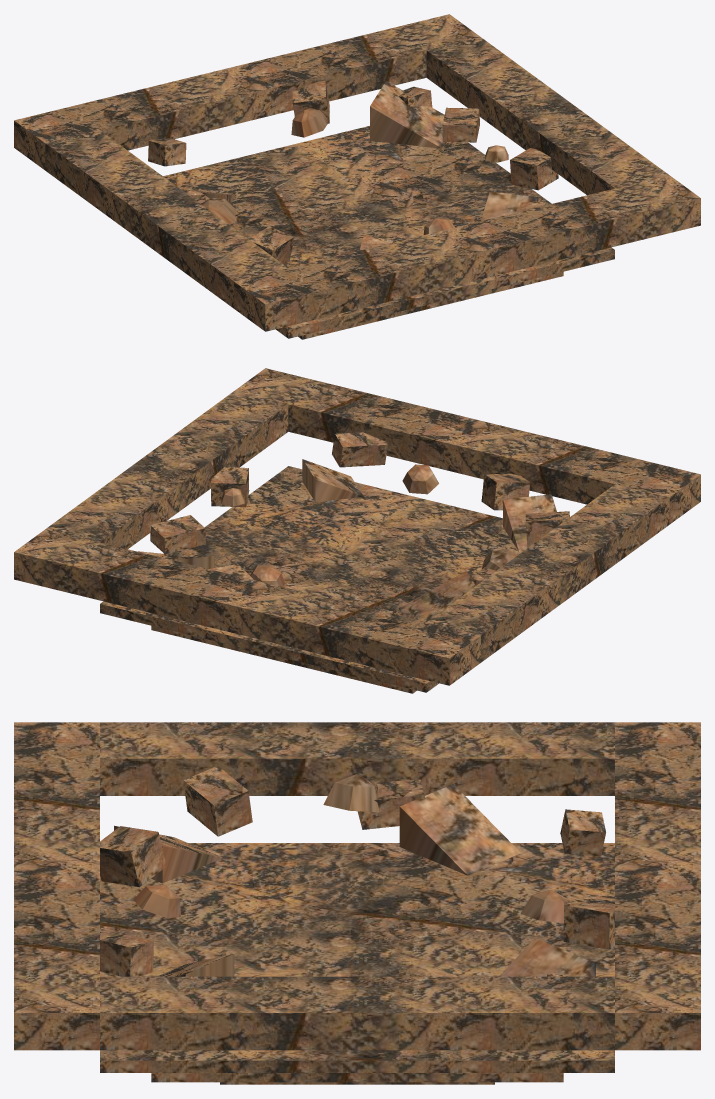
The model's file is chasm.glb.
3 renders of one model, top to bottom at view 1: azimuth 30°, elevation 25°; view 2: azimuth 150°, elevation 25°; view 3: azimuth 270°, elevation 25°, orthographic. The views are drawn at different scales.
Visible parts, largest first — view 1: Void, EdgeS, EdgeN, EdgeW, EdgeE, Ramp_0, Crumble_6, DeepVoid1, Crumble_5, Crumble_1, Crumble_8, Crumble_0 (+4 smaller); view 2: Void, EdgeN, EdgeS, EdgeW, EdgeE, Crumble_4, Ramp_2, Ramp_3, Crumble_5, Ramp_1, DeepVoid1, Crumble_3 (+4 smaller); view 3: Void, EdgeE, EdgeW, EdgeN, EdgeS, Ramp_3, DeepVoid1, Crumble_8, Crumble_3, Crumble_1, Ramp_0, Crumble_4 (+8 smaller).
Boxes of the visible parts, <box> form: Void: <box>163,126,614,338</box>; EdgeS: <box>234,175,700,331</box>; EdgeN: <box>14,14,480,170</box>; EdgeW: <box>45,130,287,308</box>; EdgeE: <box>426,37,669,195</box>; Ramp_0: <box>370,81,446,148</box>; Crumble_6: <box>510,148,558,190</box>; DeepVoid1: <box>298,271,563,339</box>; Crumble_5: <box>442,107,479,142</box>; Crumble_1: <box>292,80,329,123</box>; Crumble_8: <box>249,226,294,264</box>; Crumble_0: <box>148,138,186,166</box>; Void: <box>100,466,521,692</box>; EdgeN: <box>14,529,480,685</box>; EdgeS: <box>234,368,700,524</box>; EdgeW: <box>427,484,669,662</box>; EdgeE: <box>45,391,288,549</box>; Crumble_4: <box>332,432,387,467</box>; Ramp_2: <box>302,459,363,502</box>; Ramp_3: <box>398,571,475,621</box>; Crumble_5: <box>150,515,205,553</box>; Ramp_1: <box>503,494,556,552</box>; DeepVoid1: <box>151,625,416,693</box>; Crumble_3: <box>481,473,530,510</box>; Void: <box>100,843,614,1072</box>; EdgeE: <box>100,976,614,1050</box>; EdgeW: <box>100,722,614,795</box>; EdgeN: <box>615,722,700,1050</box>; EdgeS: <box>14,722,99,1050</box>; Ramp_3: <box>399,784,520,875</box>; DeepVoid1: <box>151,1073,563,1082</box>; Crumble_8: <box>183,766,252,836</box>; Crumble_3: <box>100,826,166,887</box>; Crumble_1: <box>563,894,614,949</box>; Ramp_0: <box>499,938,595,976</box>; Crumble_4: <box>100,928,153,976</box>.
Bounding box in the file's own units: 2 × 0.51 × 2.
Materials: 24 (24 with a texture image).
